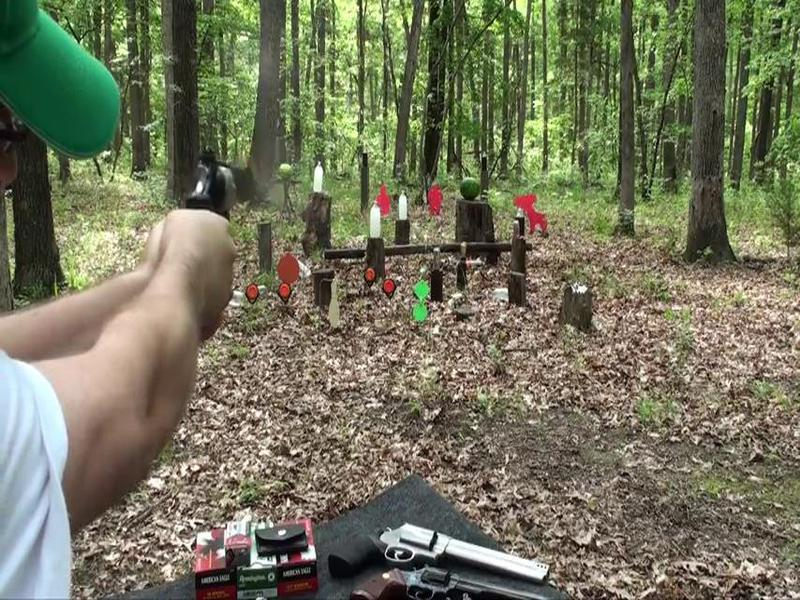Revolver: (167, 123, 262, 263)
